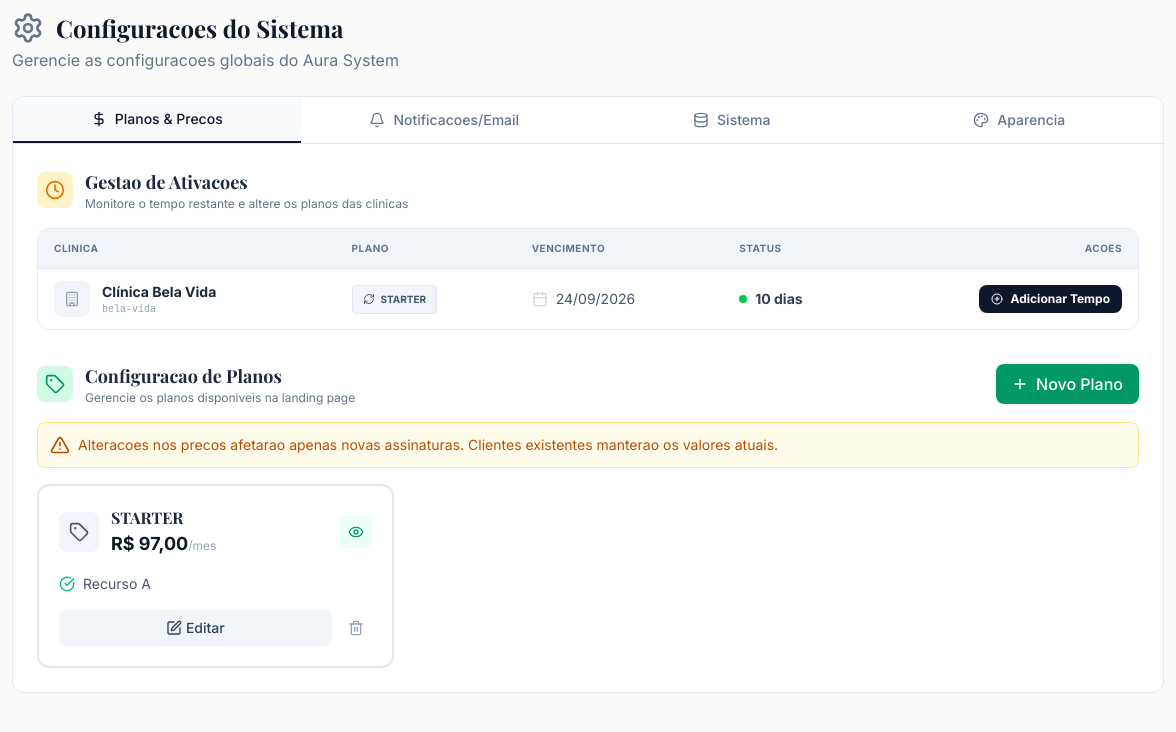
Scenario: pages/king/KingSettings — navegação por abas › troca para a aba Aparencia
This screenshot has width=1176, height=732.
What coordinates should you click on to do the following:
click the button "Aparencia"
I would click on:
 (1019, 120)
Its box is [876,97,1163,143].
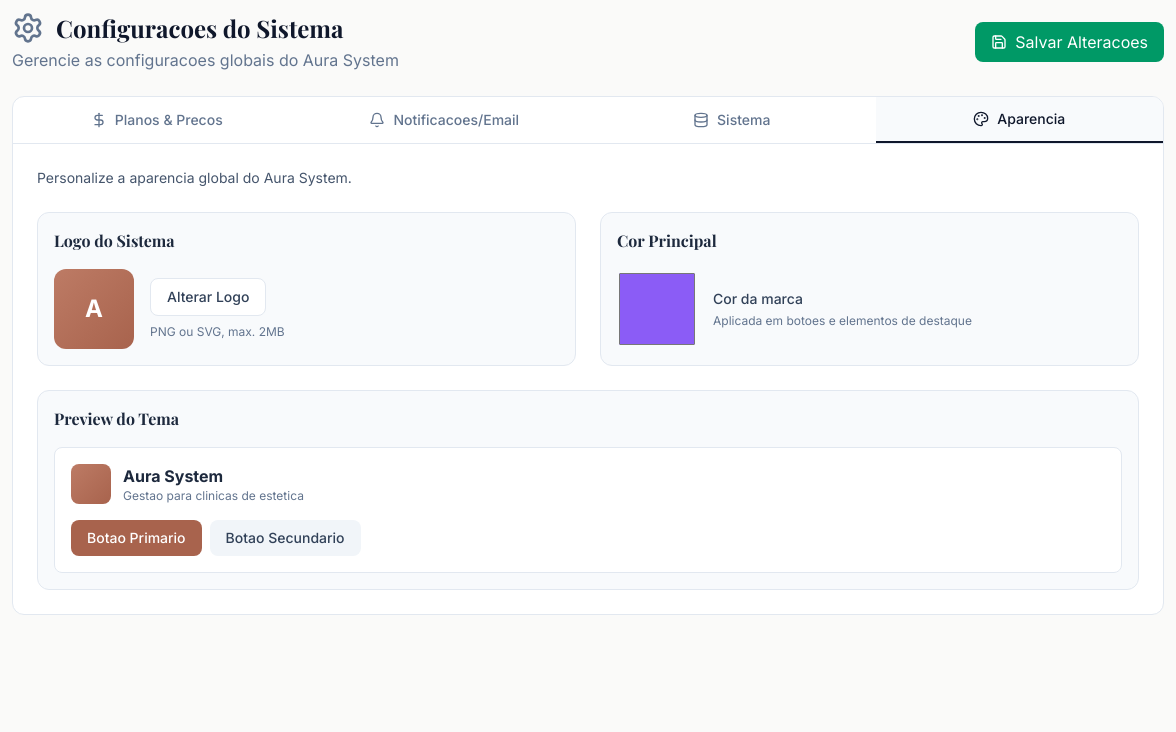
Now the heading "Logo do Sistema" is shown, box [54,230,175,251]
